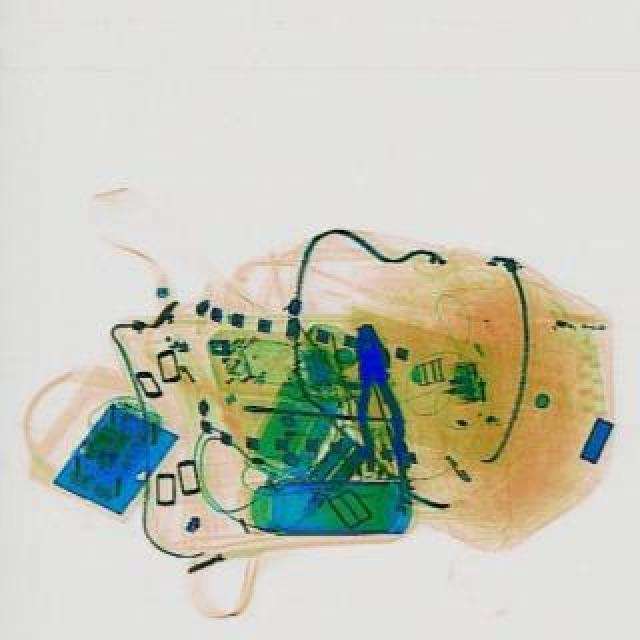wrench: (344, 320, 408, 480)
